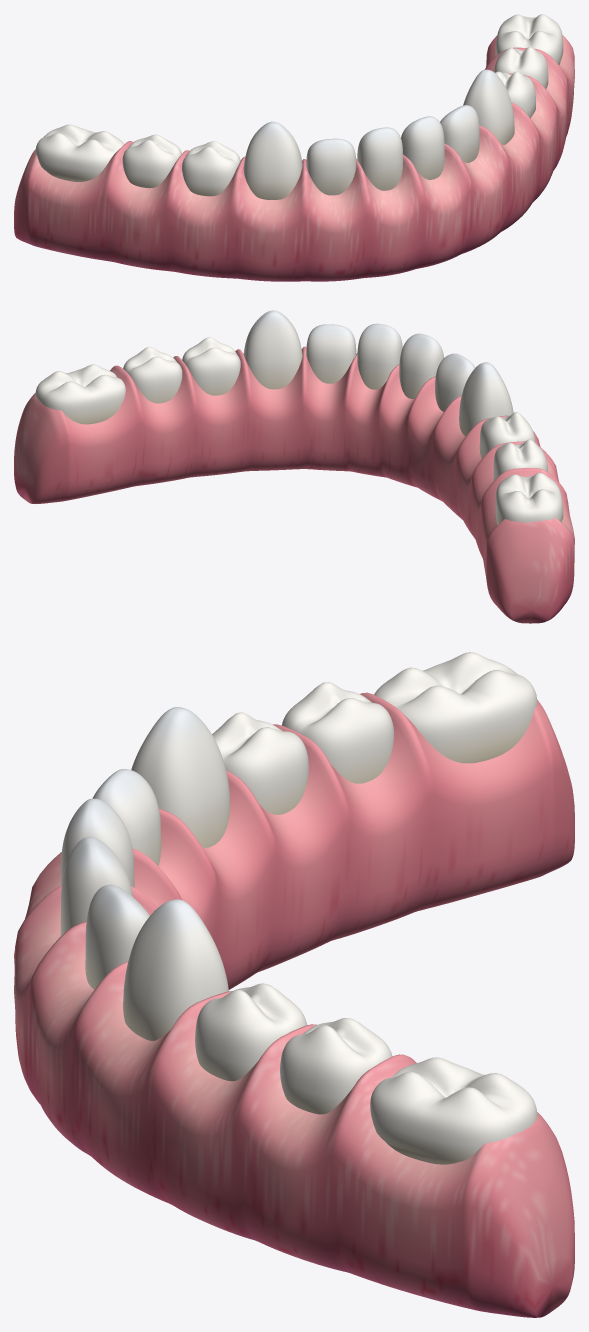
Rendered from masterclass-5.glb.
3 views of the same model, one above another, from view 1: azimuth 30°, elevation 25°; view 2: azimuth 150°, elevation 25°; view 3: azimuth 270°, elevation 25° (orthographic). The views are drawn at different scales.
Parts seen in each view (by area): view 1: Gengiva, Dente_0, Dente_3, Dente_2, Dente_8, Dente_4, Dente_5, Dente_1, Dente_11, Dente_6, Dente_7, Dente_10 (+1 smaller); view 2: Gengiva, Dente_11, Dente_8, Dente_0, Dente_3, Dente_9, Dente_7, Dente_6, Dente_10, Dente_5, Dente_4, Dente_2 (+1 smaller); view 3: Gengiva, Dente_11, Dente_0, Dente_8, Dente_3, Dente_10, Dente_9, Dente_1, Dente_2, Dente_7, Dente_6, Dente_4 (+1 smaller).
Part boxes in pixels (x1,y1,x2,y2): Gengiva: [14, 35, 574, 281]; Dente_0: [35, 124, 124, 181]; Dente_3: [243, 121, 302, 199]; Dente_2: [182, 141, 240, 196]; Dente_8: [463, 69, 514, 144]; Dente_4: [306, 138, 356, 195]; Dente_5: [357, 127, 402, 190]; Dente_1: [122, 134, 181, 188]; Dente_11: [495, 14, 563, 65]; Dente_6: [401, 116, 444, 179]; Dente_7: [440, 105, 479, 162]; Dente_10: [494, 47, 548, 88]; Gengiva: [14, 346, 574, 623]; Dente_11: [35, 364, 125, 424]; Dente_8: [243, 310, 302, 389]; Dente_0: [495, 472, 563, 524]; Dente_3: [459, 362, 513, 436]; Dente_9: [182, 337, 240, 395]; Dente_7: [306, 324, 356, 383]; Dente_6: [357, 323, 402, 389]; Dente_10: [123, 347, 182, 403]; Dente_5: [399, 333, 443, 398]; Dente_4: [435, 353, 475, 411]; Dente_2: [479, 412, 535, 458]; Gengiva: [14, 692, 574, 1317]; Dente_11: [370, 1057, 537, 1164]; Dente_0: [374, 652, 537, 763]; Dente_8: [123, 899, 228, 1040]; Dente_3: [131, 707, 230, 847]; Dente_10: [280, 1018, 392, 1114]; Dente_9: [195, 983, 307, 1081]; Dente_1: [282, 682, 393, 783]; Dente_2: [212, 712, 308, 814]; Dente_7: [85, 884, 149, 989]; Dente_6: [60, 837, 132, 936]; Dente_4: [92, 769, 161, 865].
Bounding box in the file's own units: 0.0584 × 0.0153 × 0.028.
